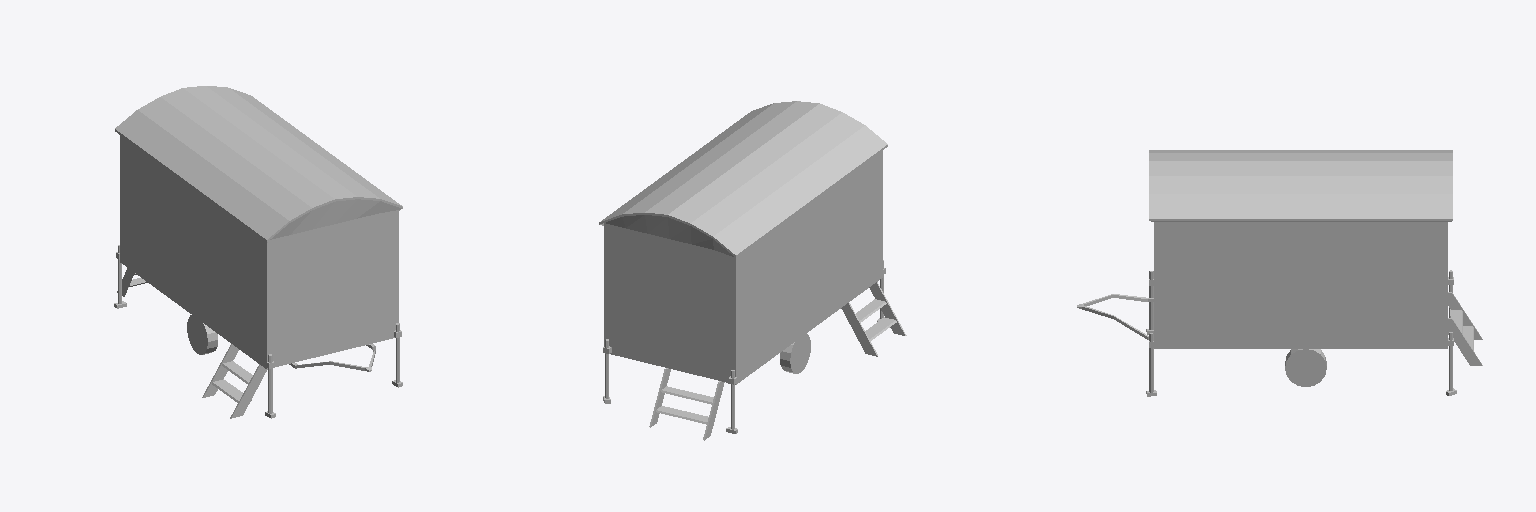
File: bauwagen.obj
3 renders of one model, left to right at view 1: azimuth 30°, elevation 25°; view 2: azimuth 150°, elevation 25°; view 3: azimuth 270°, elevation 25°, orthographic.
Visible parts, largest first — view 1: bauwagen; view 2: bauwagen; view 3: bauwagen.
Boxes of the visible parts, box(x1,y1,x2,y2) form: bauwagen: box(114, 86, 402, 418); bauwagen: box(599, 101, 906, 440); bauwagen: box(1077, 150, 1482, 396).
Size of the model in its own units: 2.82 by 3.33 by 6.04.